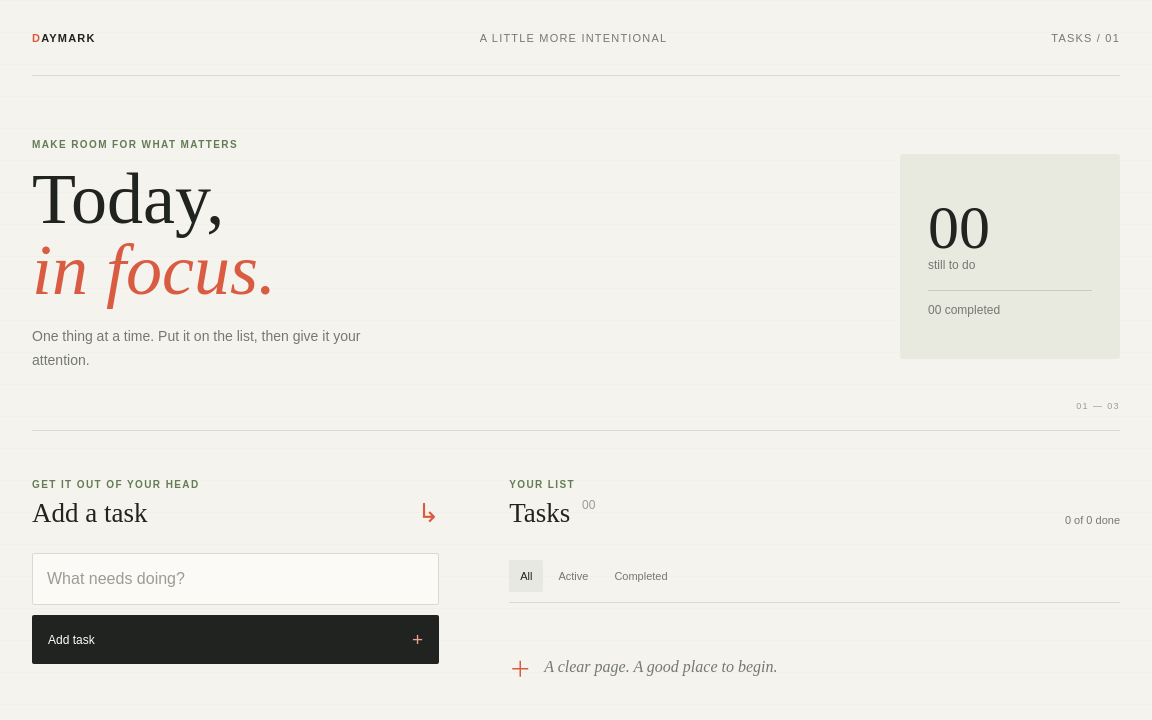
Test case: adds, completes, filters, and removes tasks through shared state
Type "  Plan the week  " into the field named "New task" at [236, 579], box [32,553,439,605]
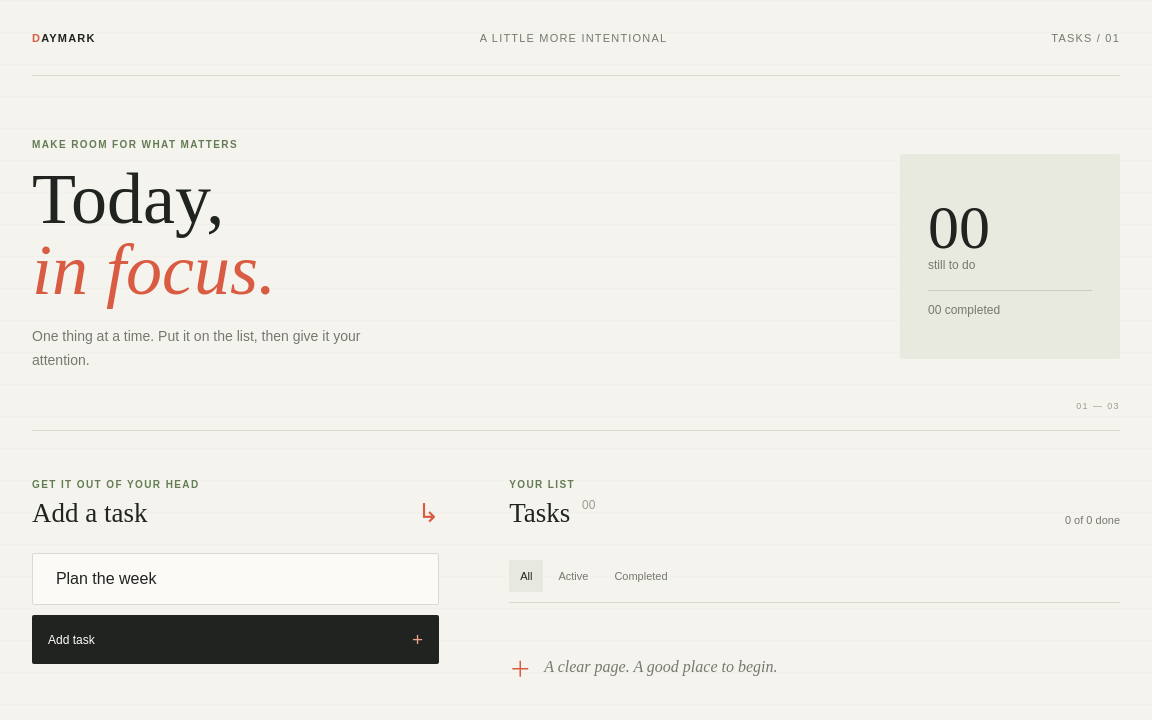
Click the button "Add task +" at [71, 640], box [32,615,439,664]
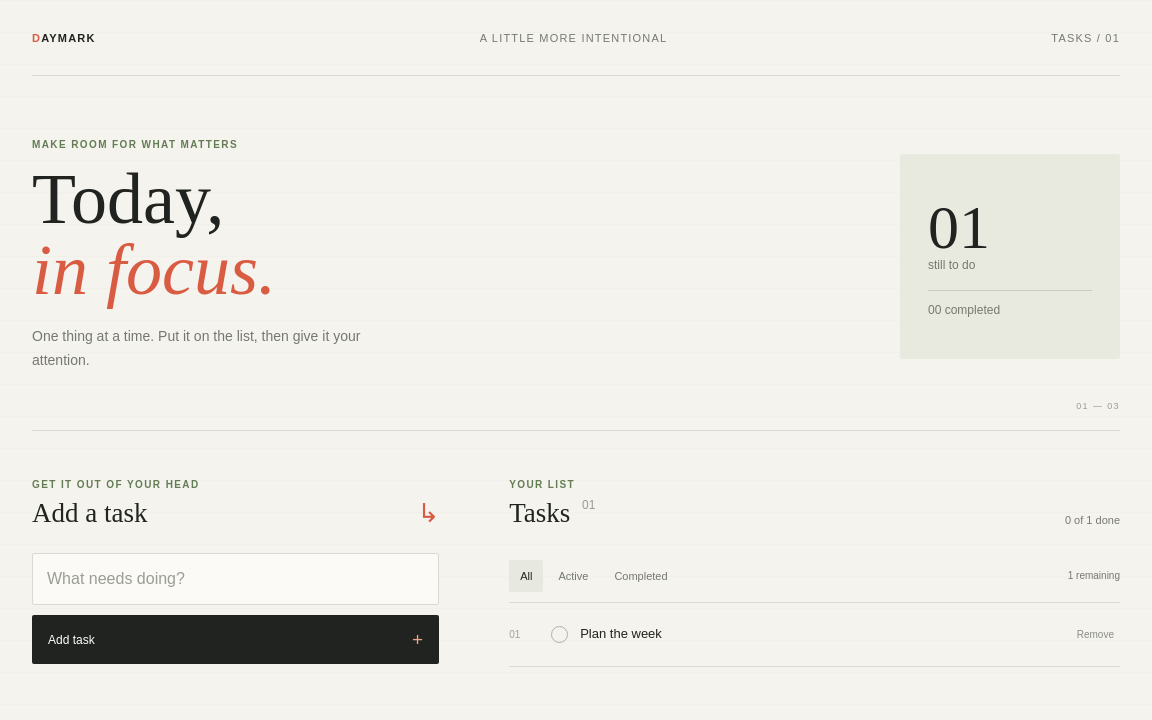
Expected: the text "Plan the week" is shown, [580,625,662,644]
Expected: the field named "New task" is empty, [32,553,439,605]
Click the checkbox named "Mark Plan the week complete" at [607, 634], box [551,626,662,643]
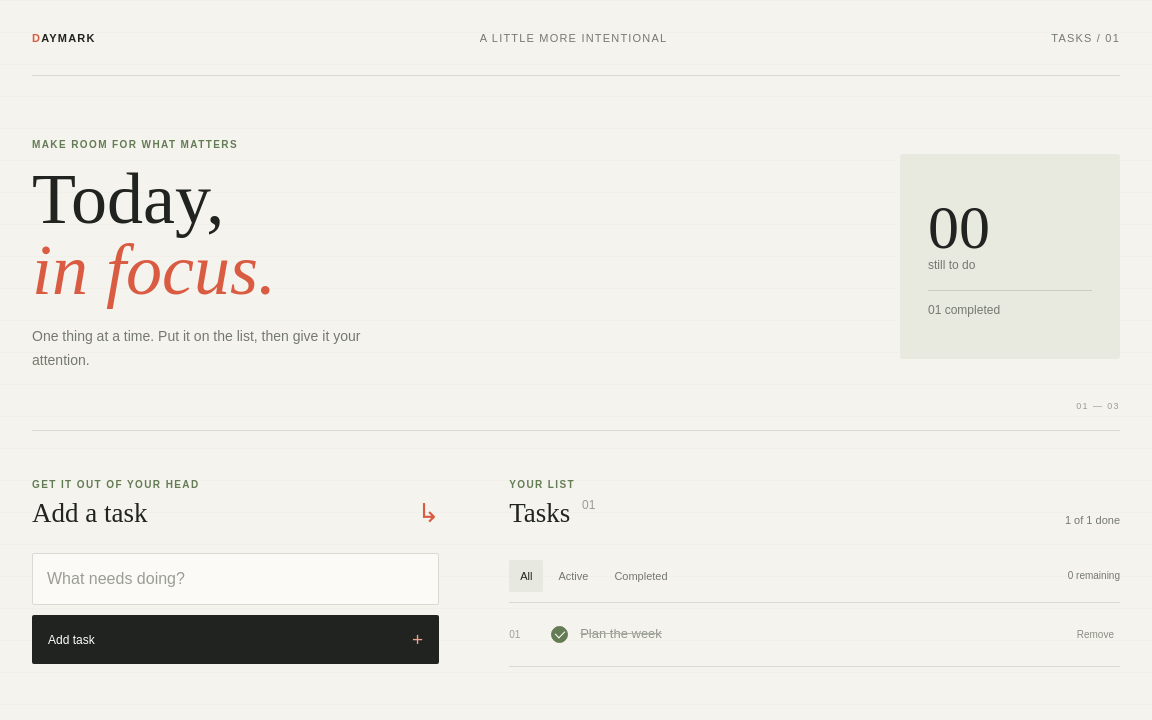
Expected: the checkbox named "Mark Plan the week complete" is checked, [551,626,662,643]
Expected: the text "1 of 1 done" is shown, [1065,514,1120,526]
Click the button "Active" at [573, 576], box [547,560,599,592]
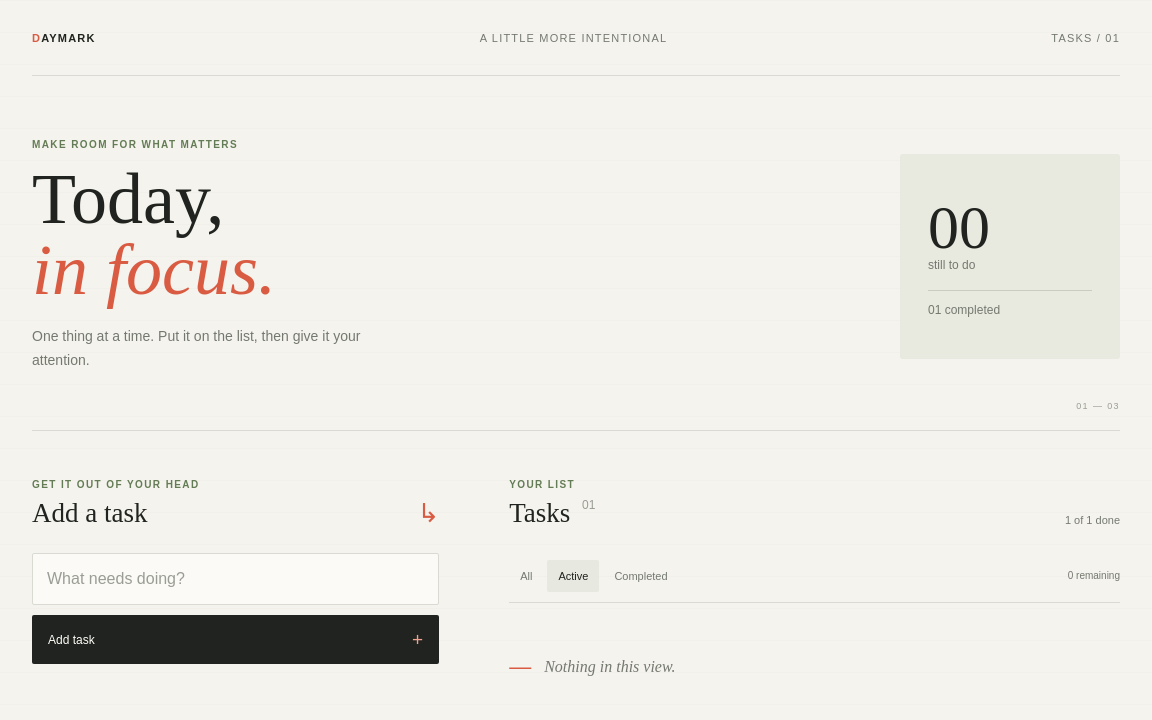
Expected: the text "Nothing in this view." is shown, [544,658,676,676]
Click the button "Completed" at [641, 576], box [603,560,679,592]
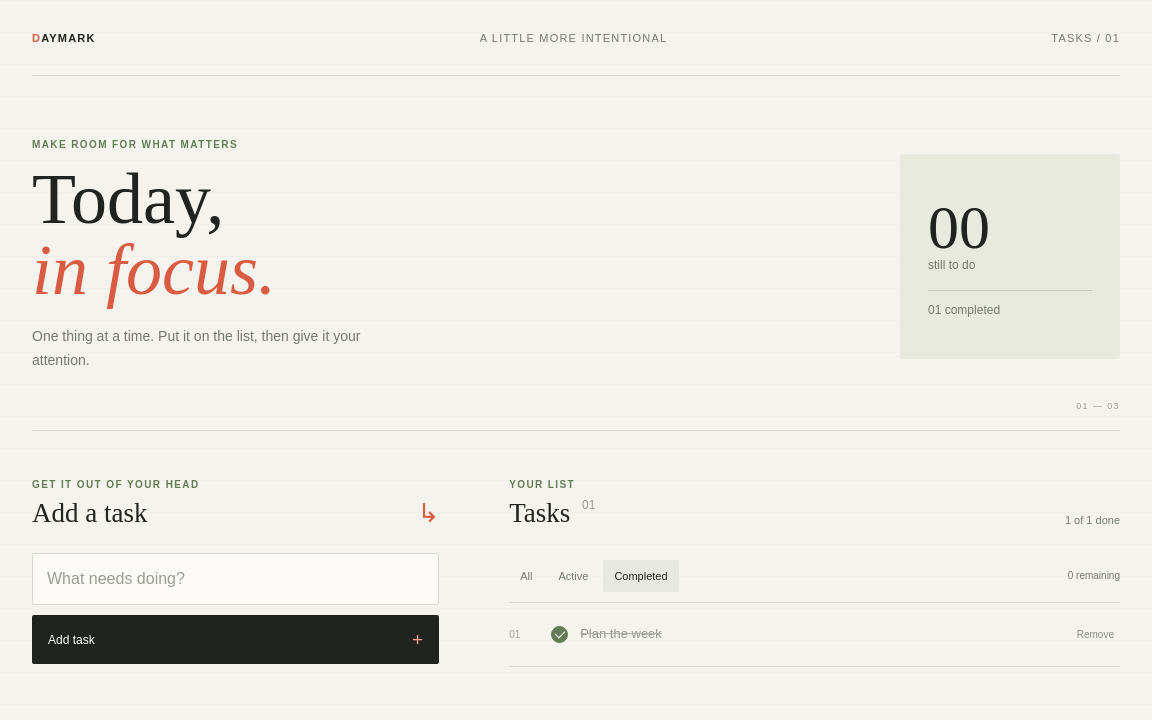
Expected: the text "Plan the week" is shown, [580,625,662,644]
Click the button with aria-label "Remove Plan the week" at [1095, 634], box [1071,618,1120,652]
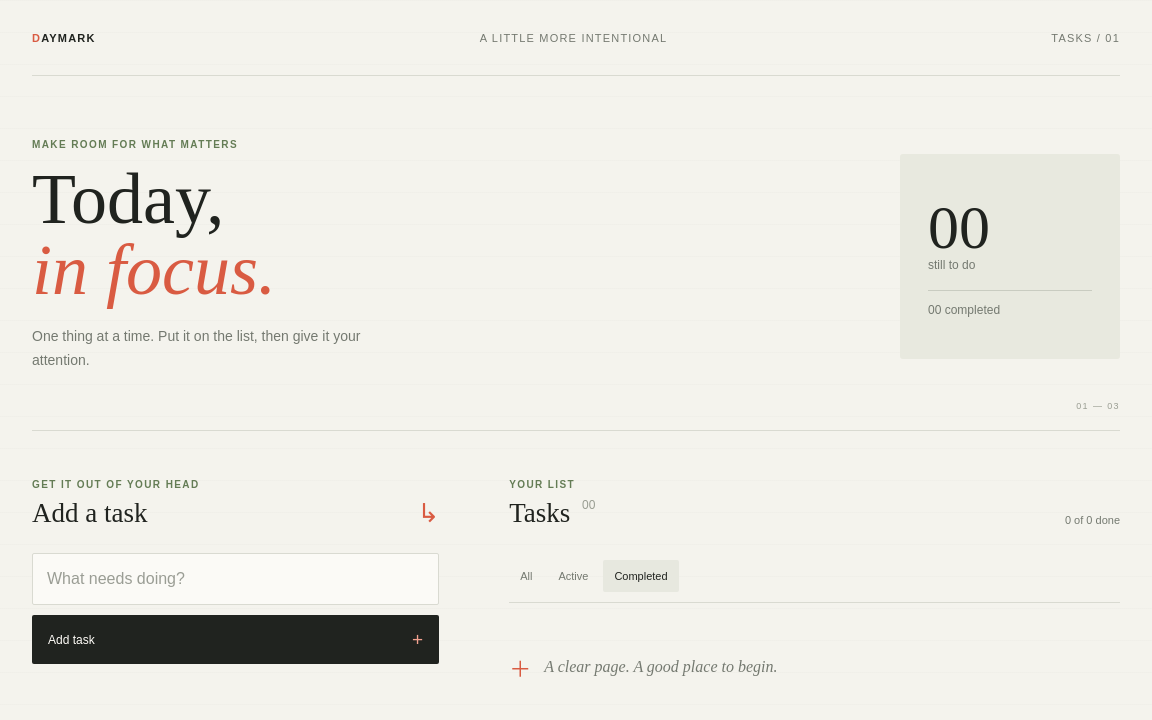
Expected: the text "Plan the week" is gone
Expected: the text "A clear page. A good place to begin." is shown, [544,658,778,676]
